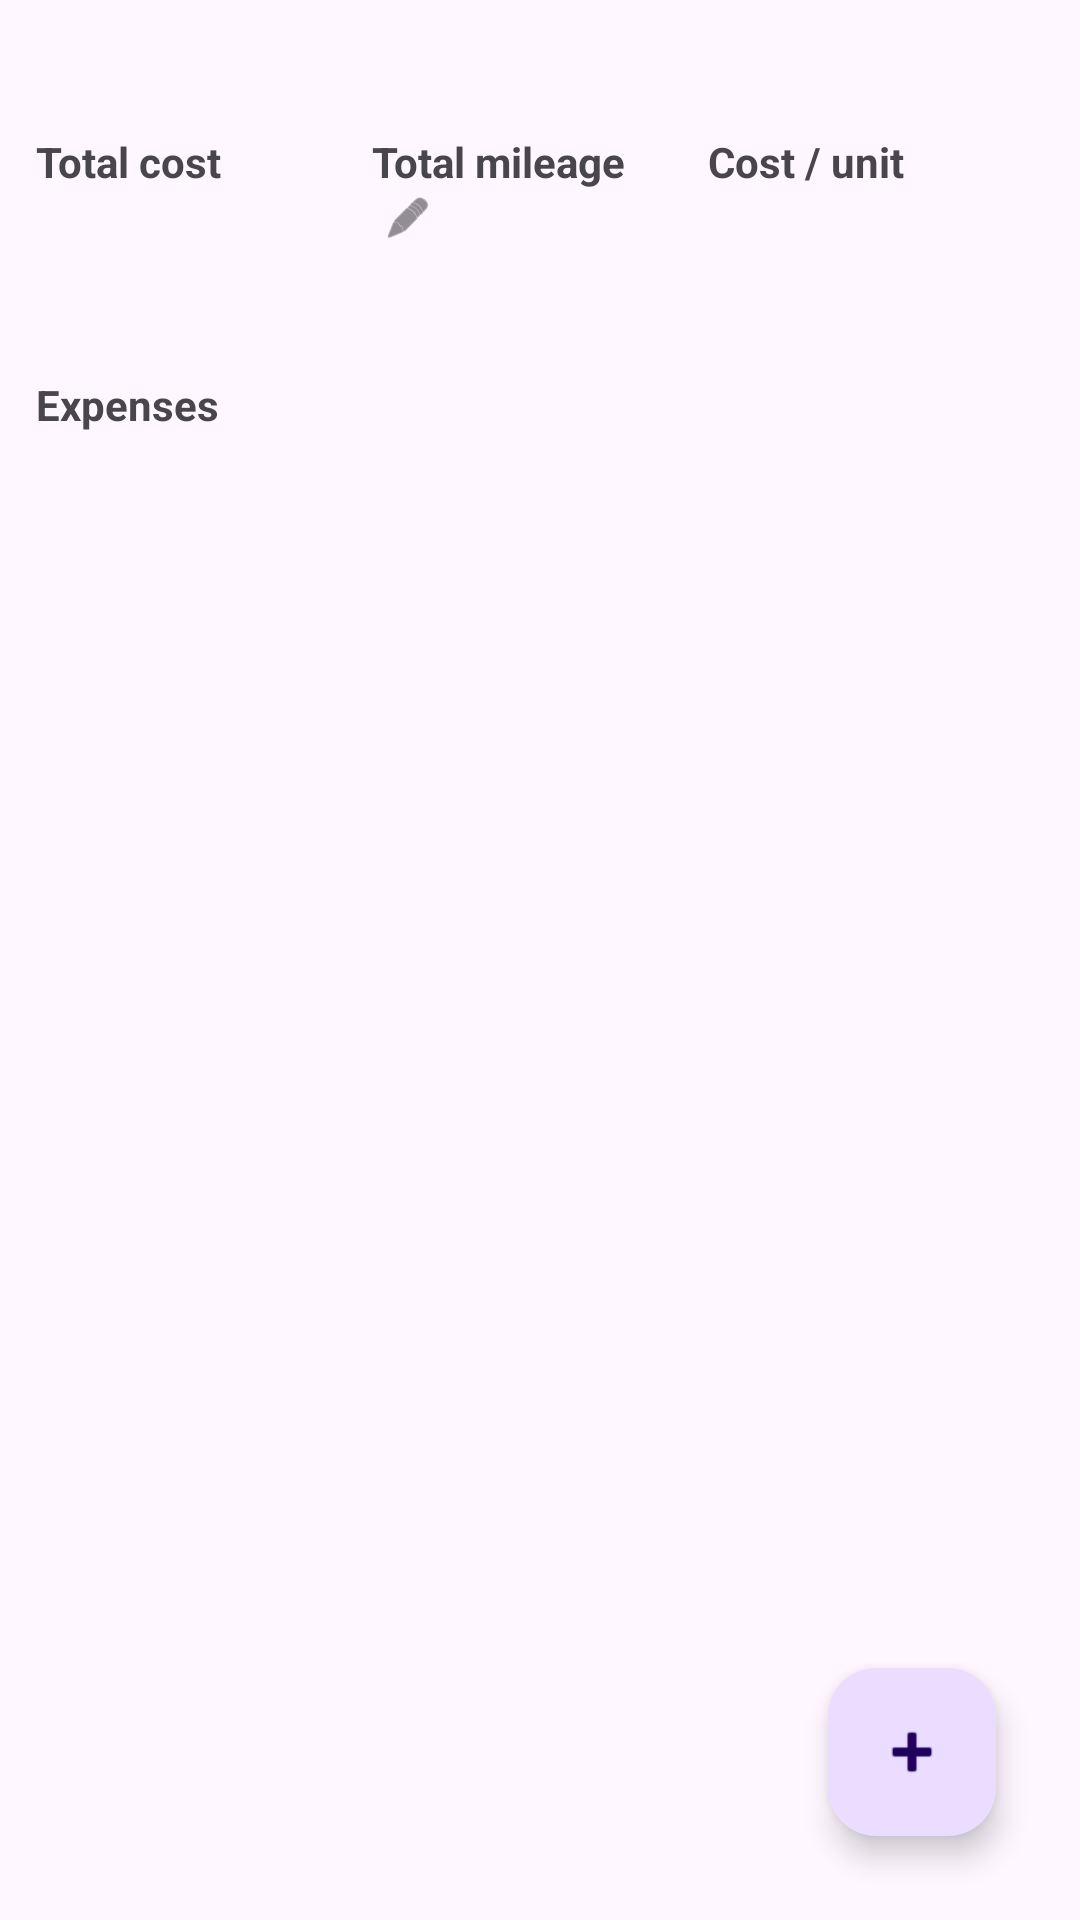

Named icons in this screenshot (1080*1920) and their bounding boxes, rect(x1, y1, x2, y2):
Add Expense: rect(828, 1668, 996, 1836)
Edit mileage: rect(388, 197, 428, 238)
